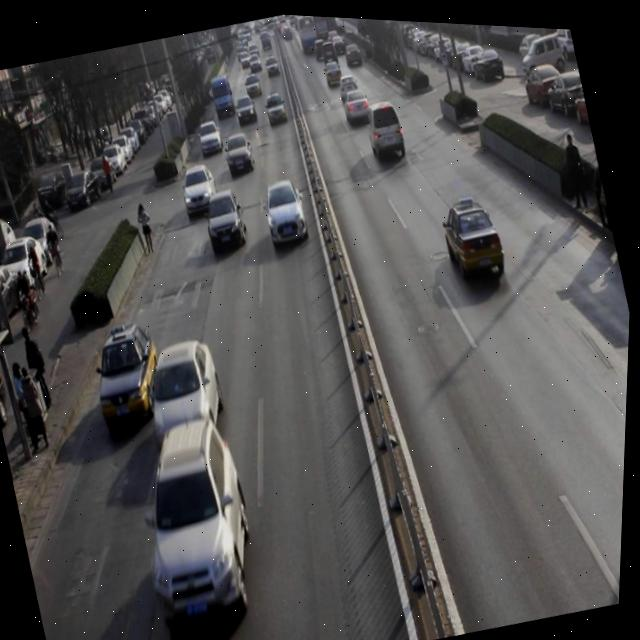car: (127, 416, 276, 631), (141, 333, 237, 454), (86, 317, 176, 429), (437, 184, 514, 287), (260, 174, 316, 250), (202, 185, 253, 253), (177, 158, 224, 217), (222, 128, 260, 177), (339, 78, 374, 122), (194, 115, 226, 155), (262, 89, 291, 124), (233, 90, 261, 125), (336, 67, 361, 99)
truck: (361, 92, 412, 163), (208, 70, 240, 118)
